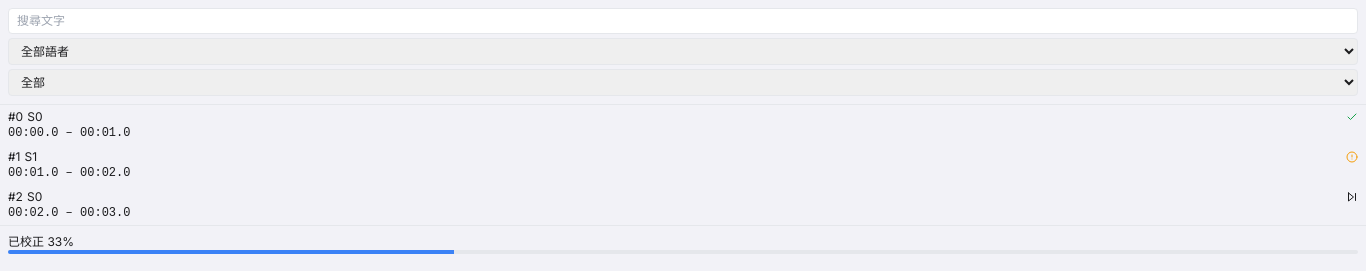
SegmentList › 搜尋 substring 過濾
Type "校正" into the search field labelled "搜尋".
click(683, 21); type("校正")  # box [8,8,1358,34]
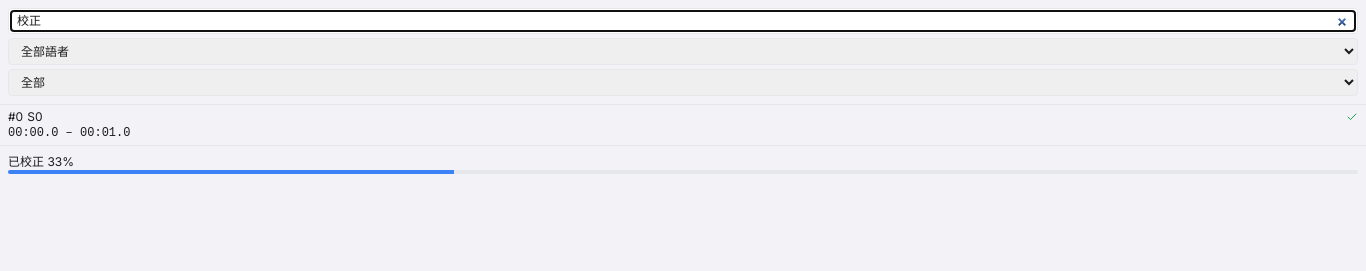
Result: the number of list items is 1 at [0,105,1365,145]
